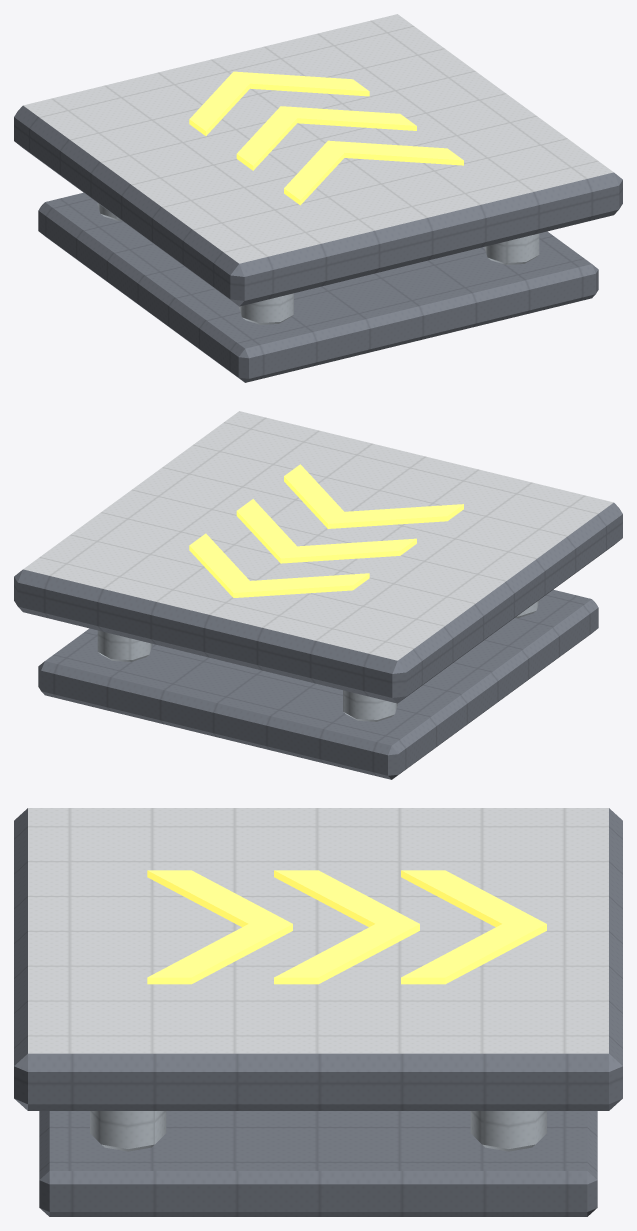
File: R4D_KnockbackTrap_LOD1.glb
The picture shows the model from 3 angles, top to bottom: view 1: azimuth 30°, elevation 25°; view 2: azimuth 150°, elevation 25°; view 3: azimuth 270°, elevation 25°; orthographic projection. The views are drawn at different scales.
Parts seen in each view (by area): view 1: R4D_KnockbackTrap_LOD1; view 2: R4D_KnockbackTrap_LOD1; view 3: R4D_KnockbackTrap_LOD1.
Boxes of the visible parts, x1=… form: R4D_KnockbackTrap_LOD1: x1=14, y1=14, x2=622, y2=382; R4D_KnockbackTrap_LOD1: x1=14, y1=411, x2=622, y2=779; R4D_KnockbackTrap_LOD1: x1=14, y1=808, x2=622, y2=1216.
Bounding box in the file's own units: 0.48 × 0.156 × 0.48.
Materials: 5 (4 with a texture image).
